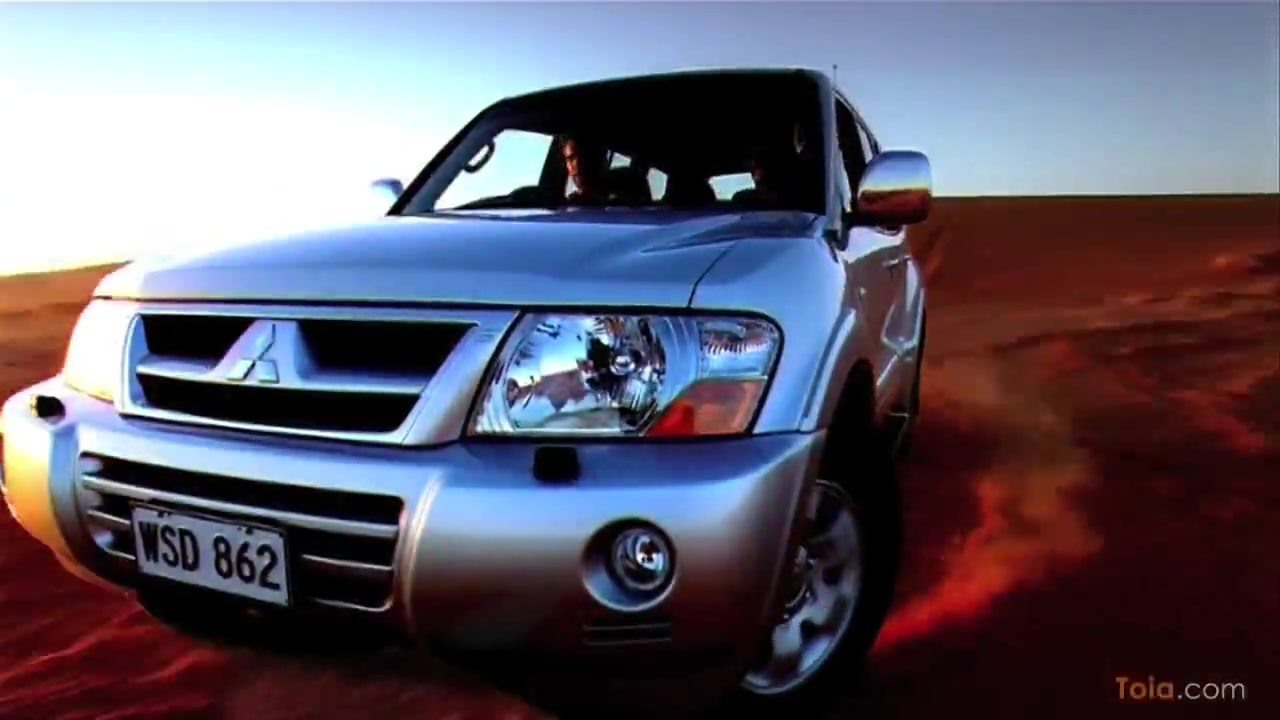car: (5, 64, 934, 708)
